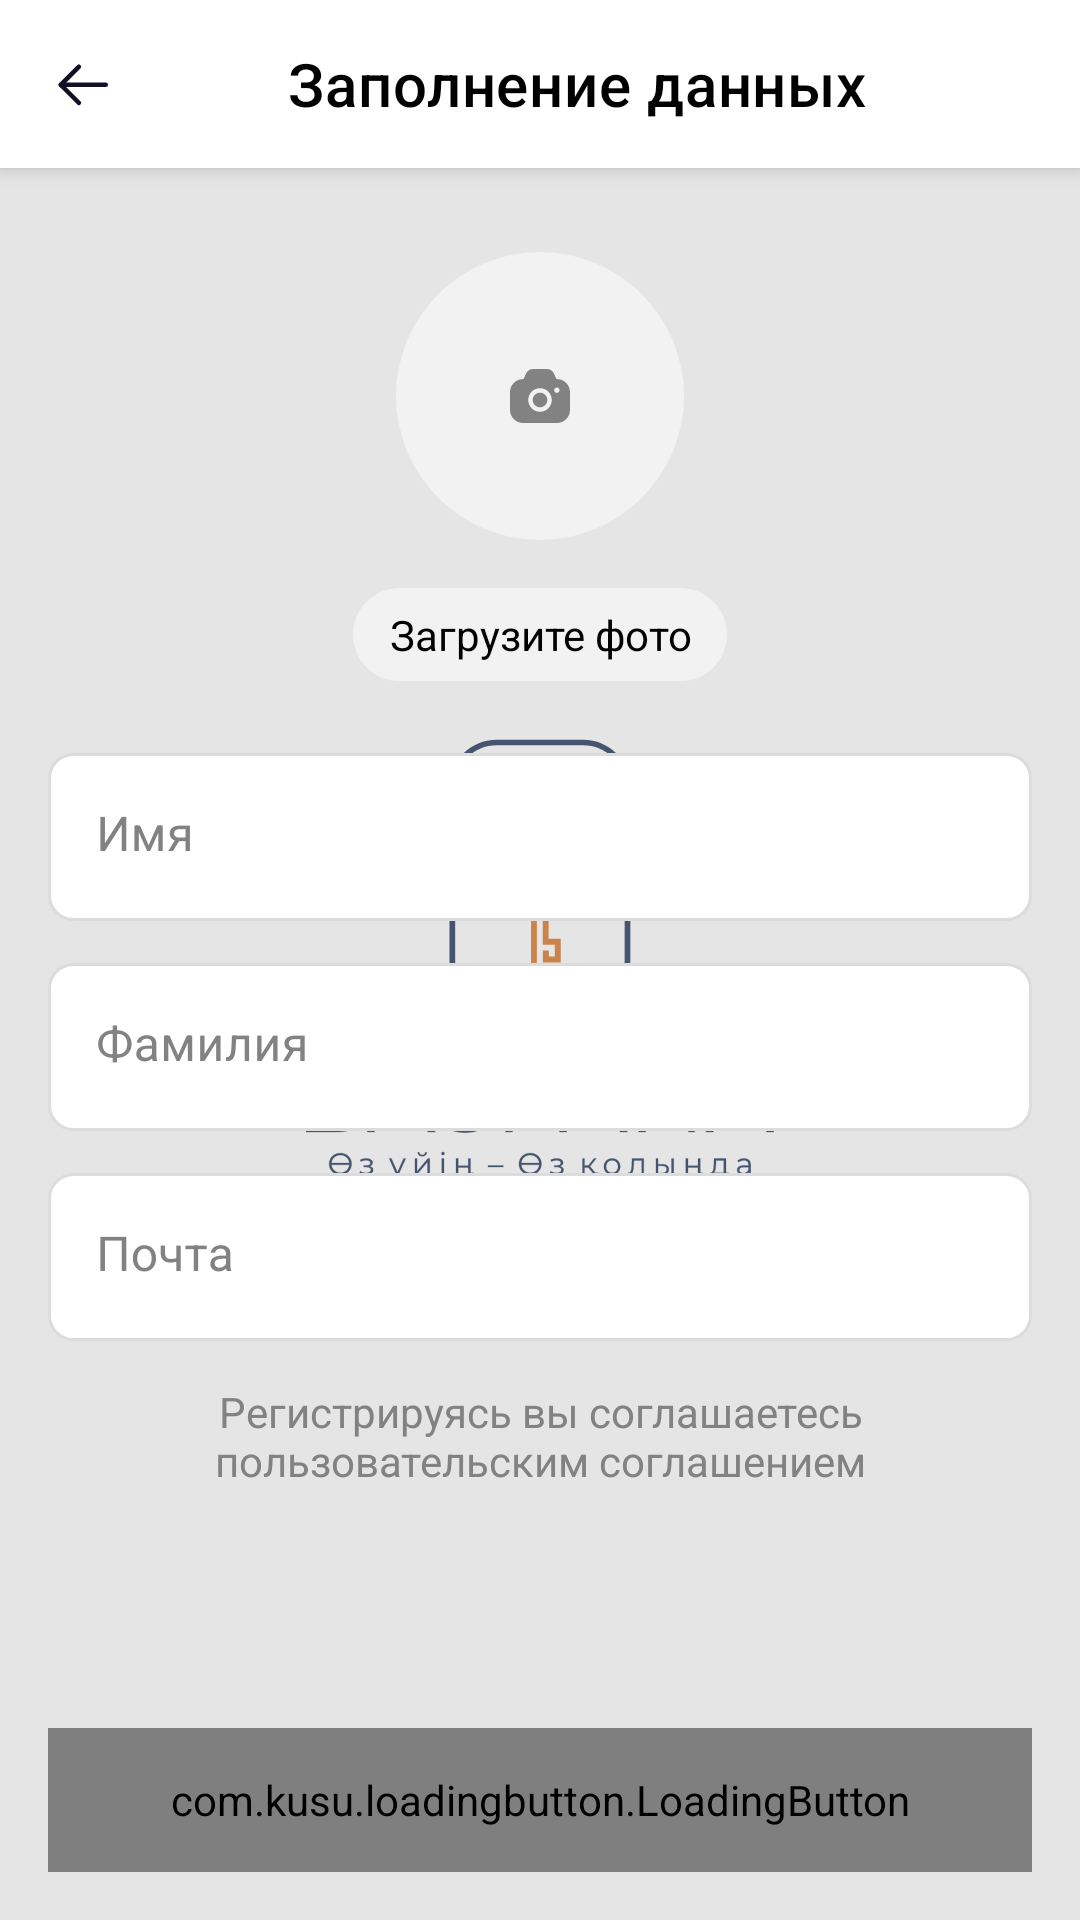

Icon bounding boxes for this 1080*1920 phone screenshot, format (x1, y1, x2, y2):
camera: (510, 369, 570, 423)
